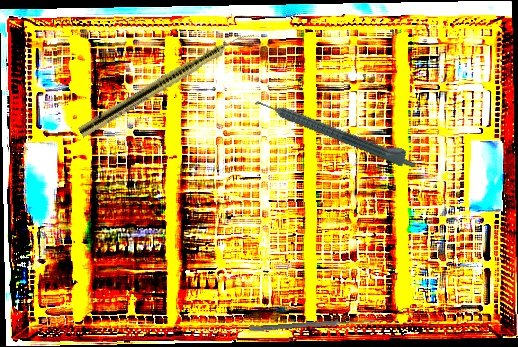Handpiece: (77, 24, 256, 141), (253, 89, 421, 172)
Surgical Spoon: (248, 317, 379, 333)
